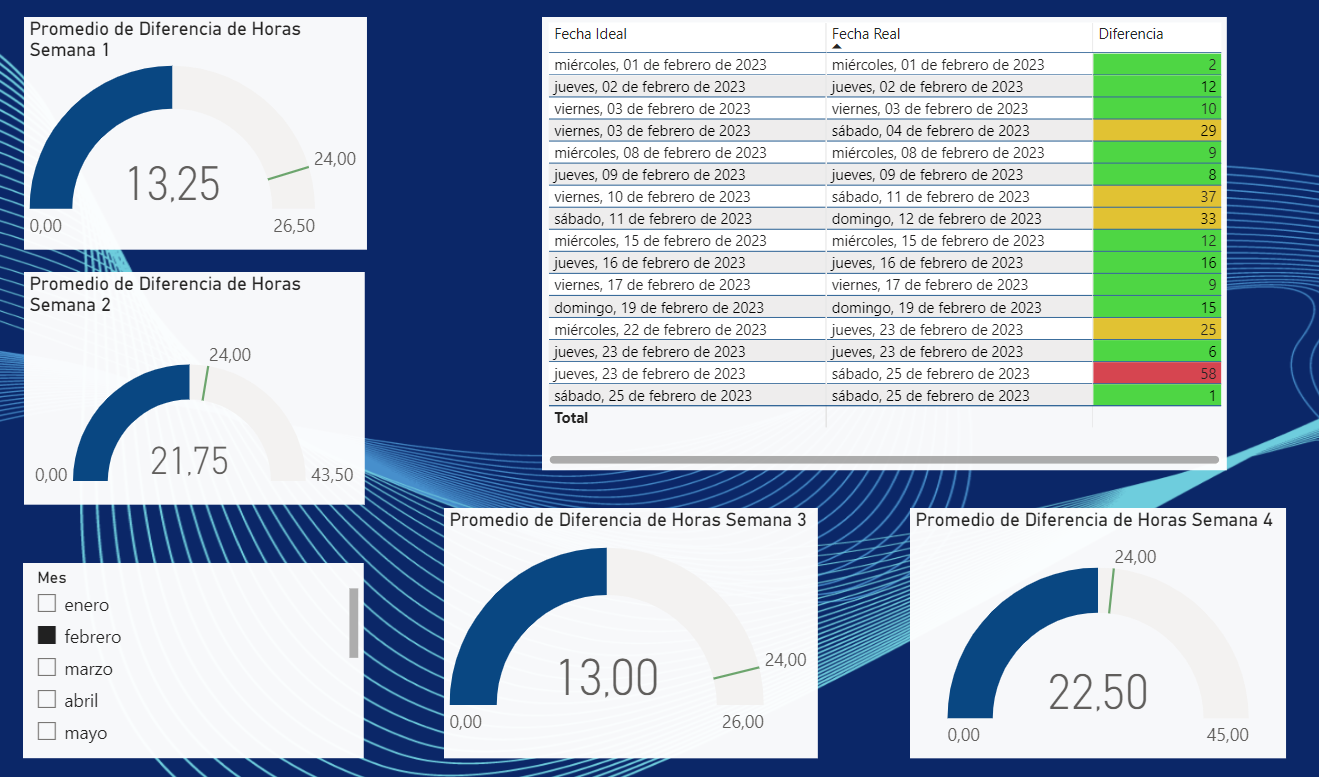

What the dashboard file says about the page in this screenshot:
{"tool":"powerbi","page":{"name":"Página 2","canvas":[1280,720],"ordinal":1},"visuals":[{"type":"gauge","fields":{"Y":["Avg(Exactituds.Diferencia)"]},"box":[63.5,23.3,311.3,211.1],"z":0},{"type":"tableEx","fields":{"Values":["Exactituds.Fecha ","Exactituds.Fecha R","Exactituds.Diferencia"]},"box":[533.1,23.3,620.7,410.5],"z":1000},{"type":"gauge","fields":{"Y":["Avg(Exactituds.Diferencia)"]},"box":[63.5,254.9,308.6,211.1],"z":2000},{"type":"gauge","fields":{"Y":["Avg(Exactituds.Diferencia)"]},"box":[444.4,468.9,338.9,226.7],"z":3000},{"type":"gauge","fields":{"Y":["Avg(Exactituds.Diferencia)"]},"box":[866.7,468.9,341.1,226.7],"z":4000},{"type":"slicer","fields":{"Values":["Exactituds.Fecha .Variación.Jerarquía de fechas.Mes"]},"box":[62.6,518.7,309.2,176.8],"z":5000}]}

Visuals, with their boxes in screenshot pixels (x1, y1, x2, y2):
gauge - Avg(Exactituds.Diferencia): [left=25, top=19, right=365, bottom=249]
tableEx - Exactituds.Fecha  x Exactituds.Fecha R: [left=538, top=19, right=1216, bottom=467]
gauge - Avg(Exactituds.Diferencia): [left=25, top=272, right=362, bottom=502]
gauge - Avg(Exactituds.Diferencia): [left=441, top=505, right=811, bottom=753]
gauge - Avg(Exactituds.Diferencia): [left=902, top=505, right=1275, bottom=753]
slicer - Exactituds.Fecha .Variación.Jerarquía de fechas.Mes: [left=24, top=560, right=361, bottom=753]
